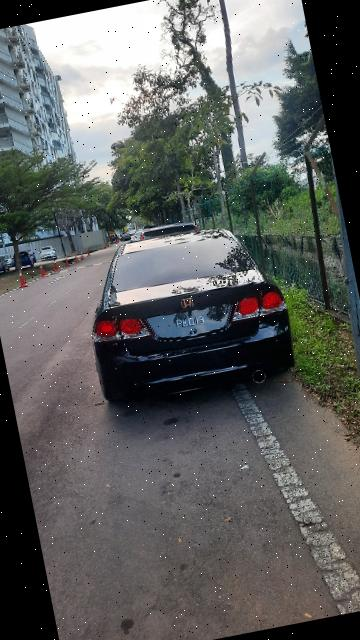License_Plate: (143, 299, 243, 352)
car: (73, 213, 303, 417)
